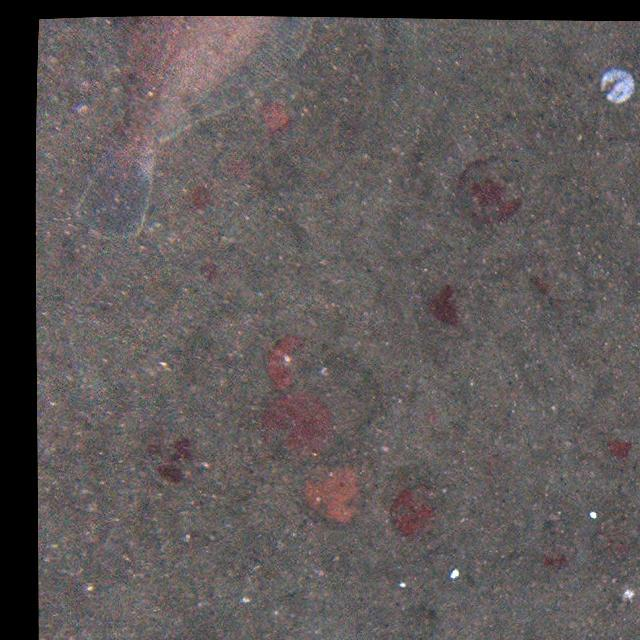flatfish: (58, 12, 324, 240)
